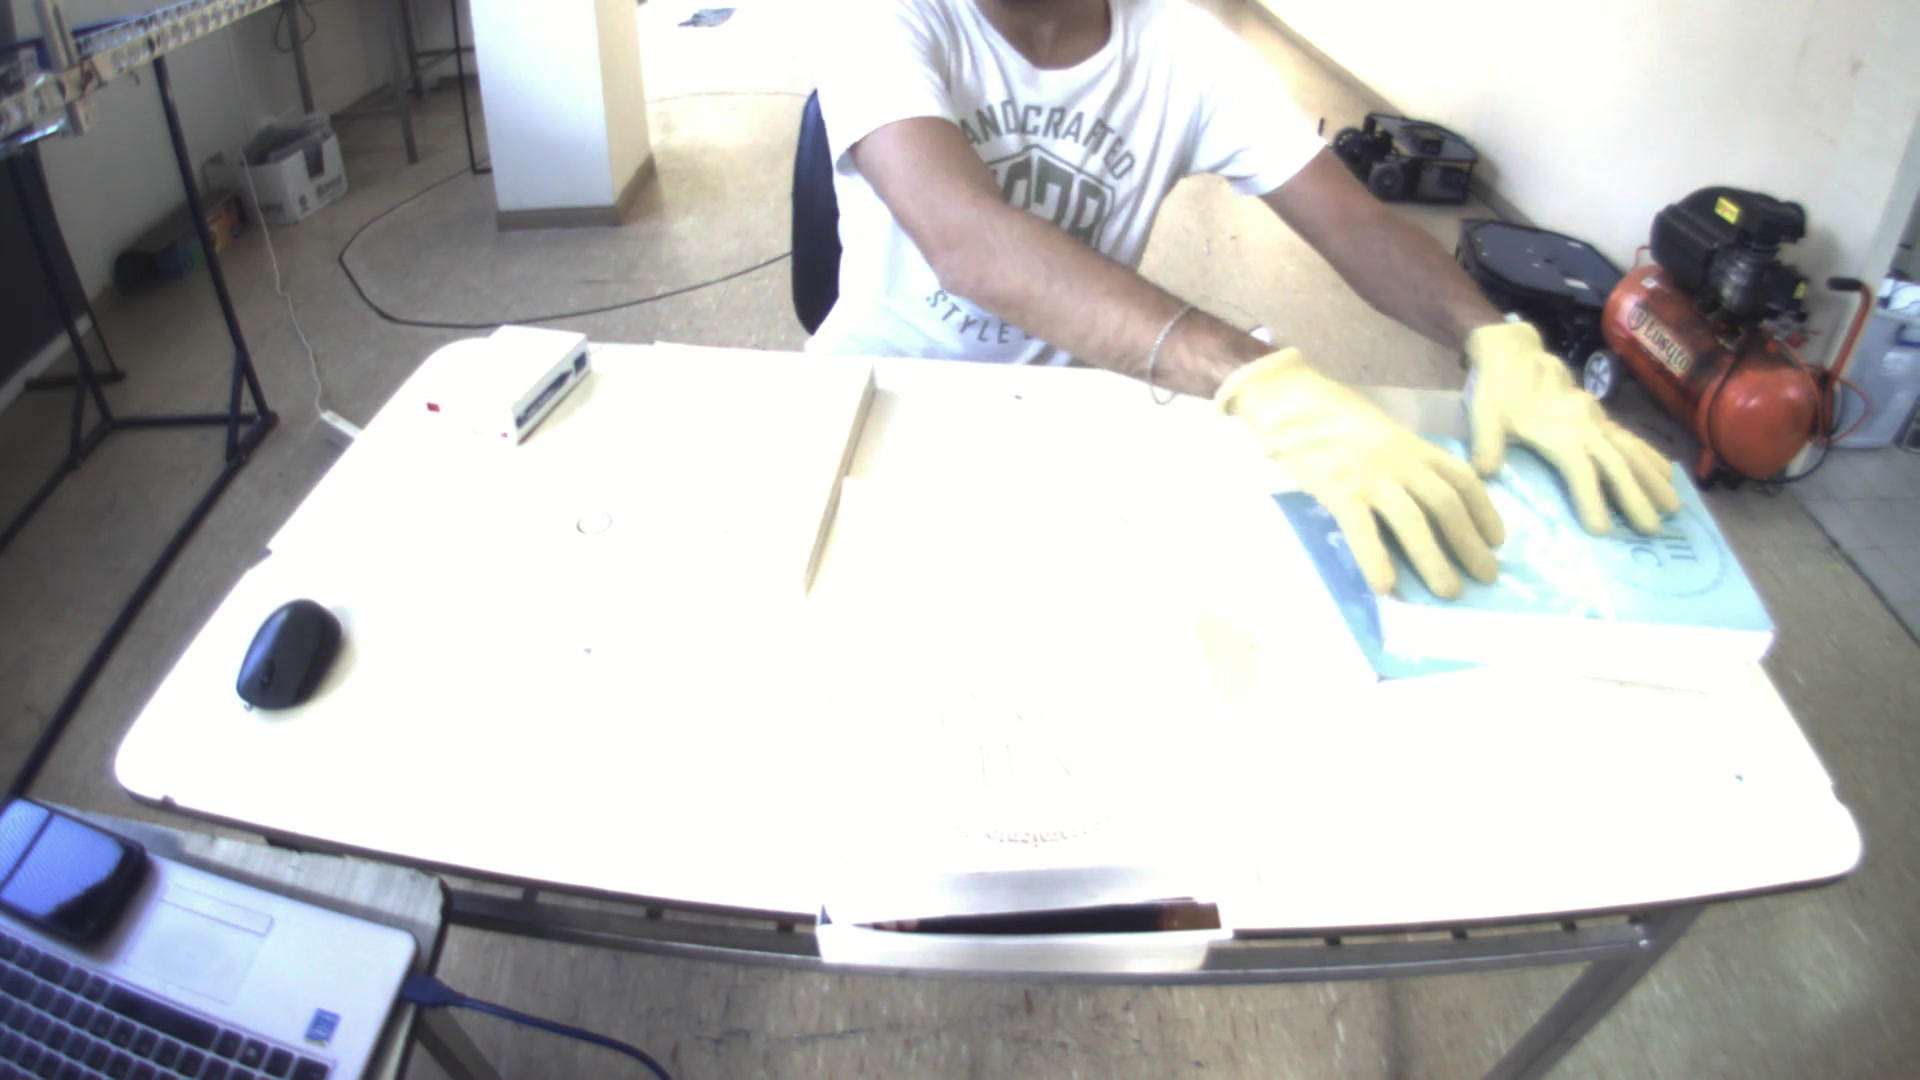hand: (1211, 338, 1526, 597), (1455, 316, 1702, 534)
